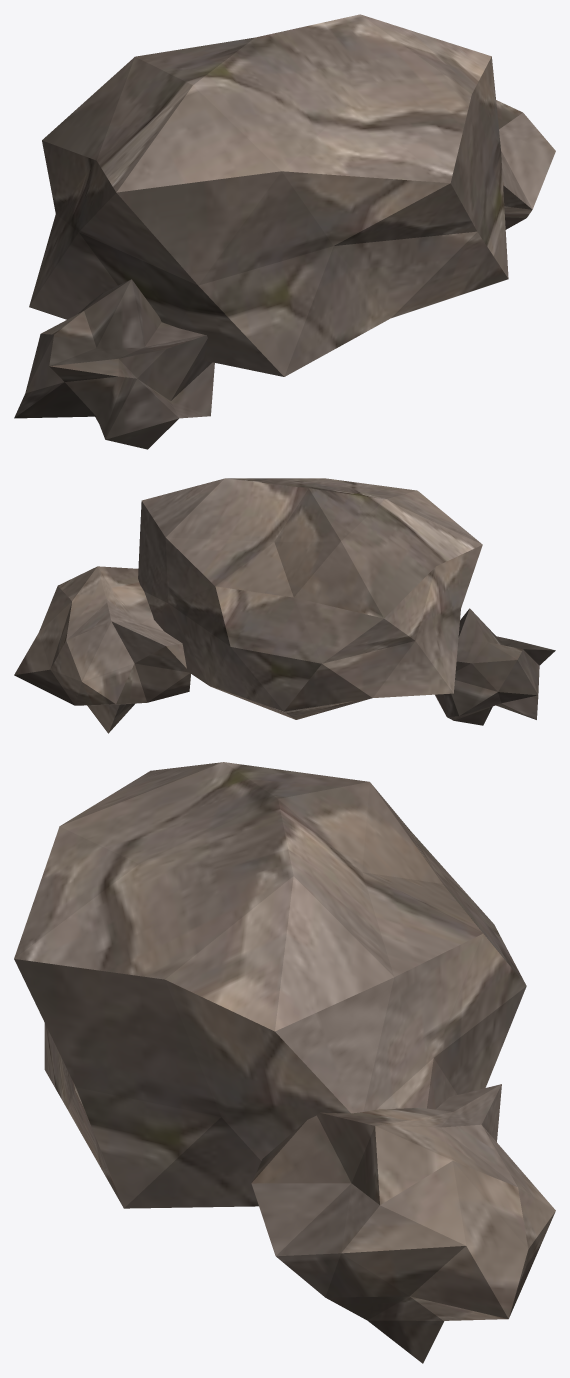
Rendered from stone.glb.
3 views of the same model, one above another, from view 1: azimuth 30°, elevation 25°; view 2: azimuth 150°, elevation 25°; view 3: azimuth 270°, elevation 25° (orthographic). The views are drawn at different scales.
Visible parts, largest first — view 1: model; view 2: model; view 3: model.
Boxes of the visible parts, x1,y1,x2,y2 form: model: (14,14,555,449); model: (14,478,555,733); model: (14,762,555,1363).
Bounding box in the file's own units: 0.3891 × 0.2169 × 0.2461.
Materials: 3 (3 with a texture image).
